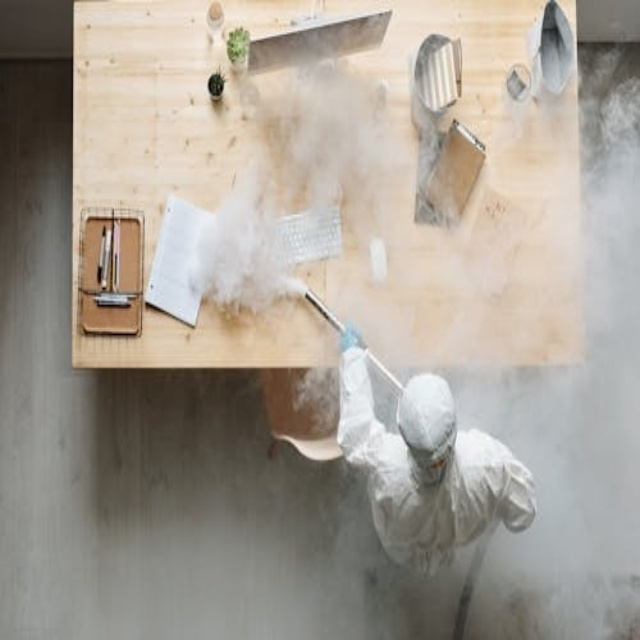Guantes: (340, 319, 362, 353)
